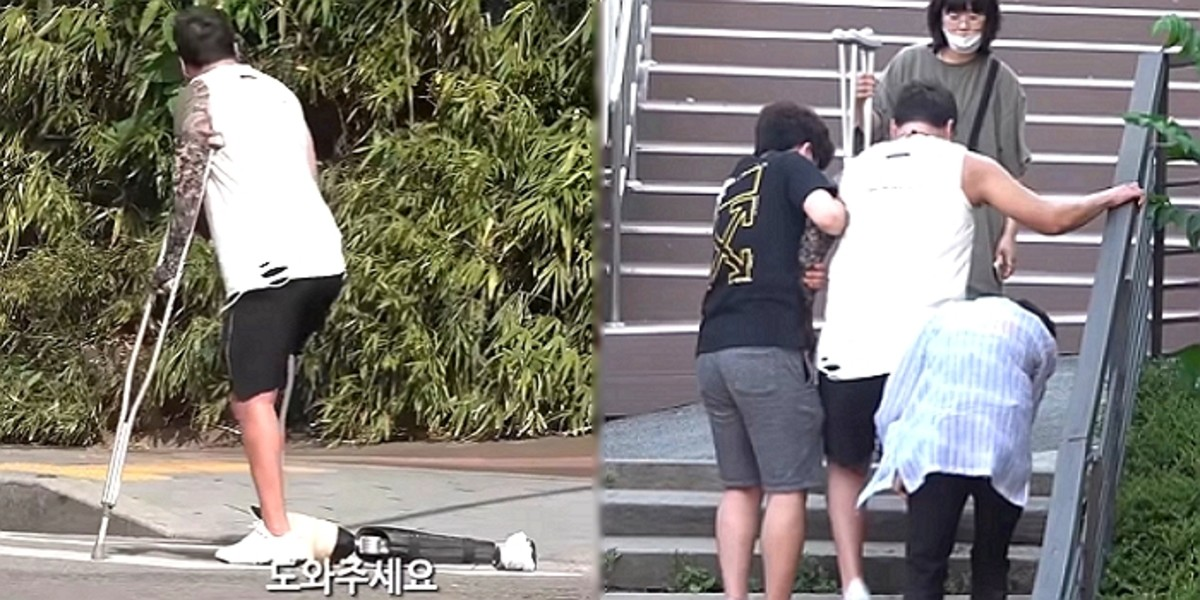crutches: (93, 2, 349, 563)
